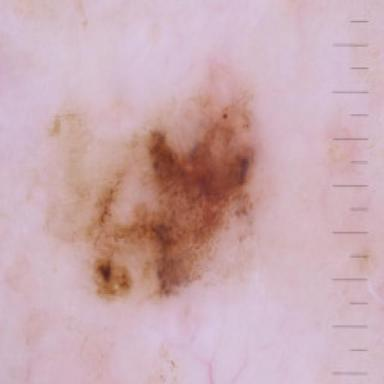Melanoma: (44, 92, 263, 303)
